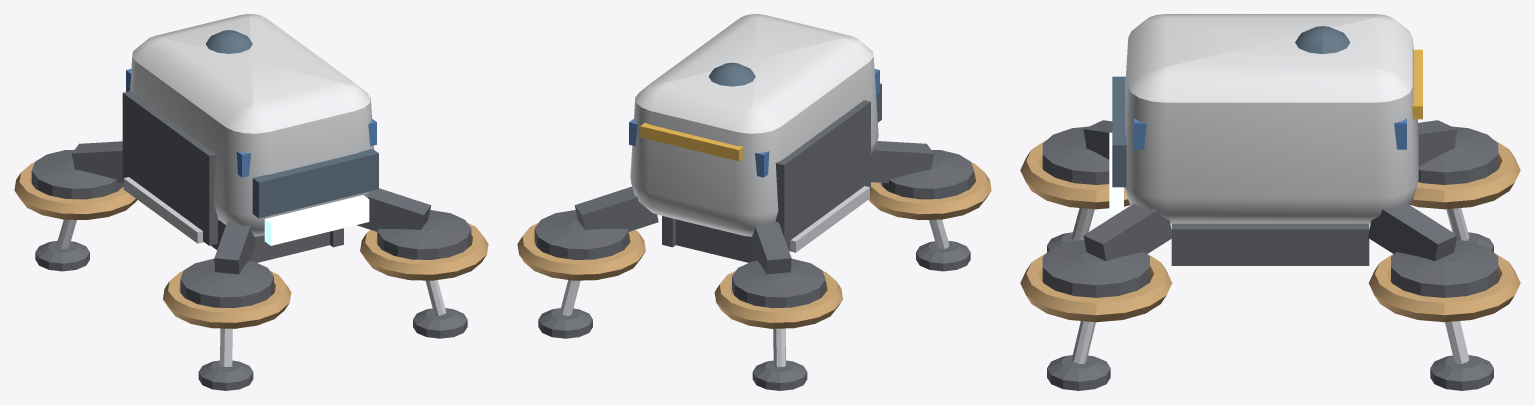
The model's file is hover-transit-and-antigrav-fleet-parcel-drone-autonomo-90266551__17083.glb.
3 renders of one model, left to right at view 1: azimuth 30°, elevation 25°; view 2: azimuth 150°, elevation 25°; view 3: azimuth 270°, elevation 25°, orthographic. The views are drawn at different scales.
Parts seen in each view (by area): view 1: parcel-drone-autonomous, hatch-left (×2); view 2: parcel-drone-autonomous, hatch-left (×2); view 3: parcel-drone-autonomous.
Boxes of the visible parts, box(x1,y1,x2,y2) form: parcel-drone-autonomous: box(14, 14, 488, 390); hatch-left (×2): box(122, 91, 217, 245); parcel-drone-autonomous: box(517, 14, 991, 390); hatch-left (×2): box(775, 100, 870, 252); parcel-drone-autonomous: box(1020, 14, 1520, 390).
Bounding box in the file's own units: 1.44 × 1.09 × 1.72.
